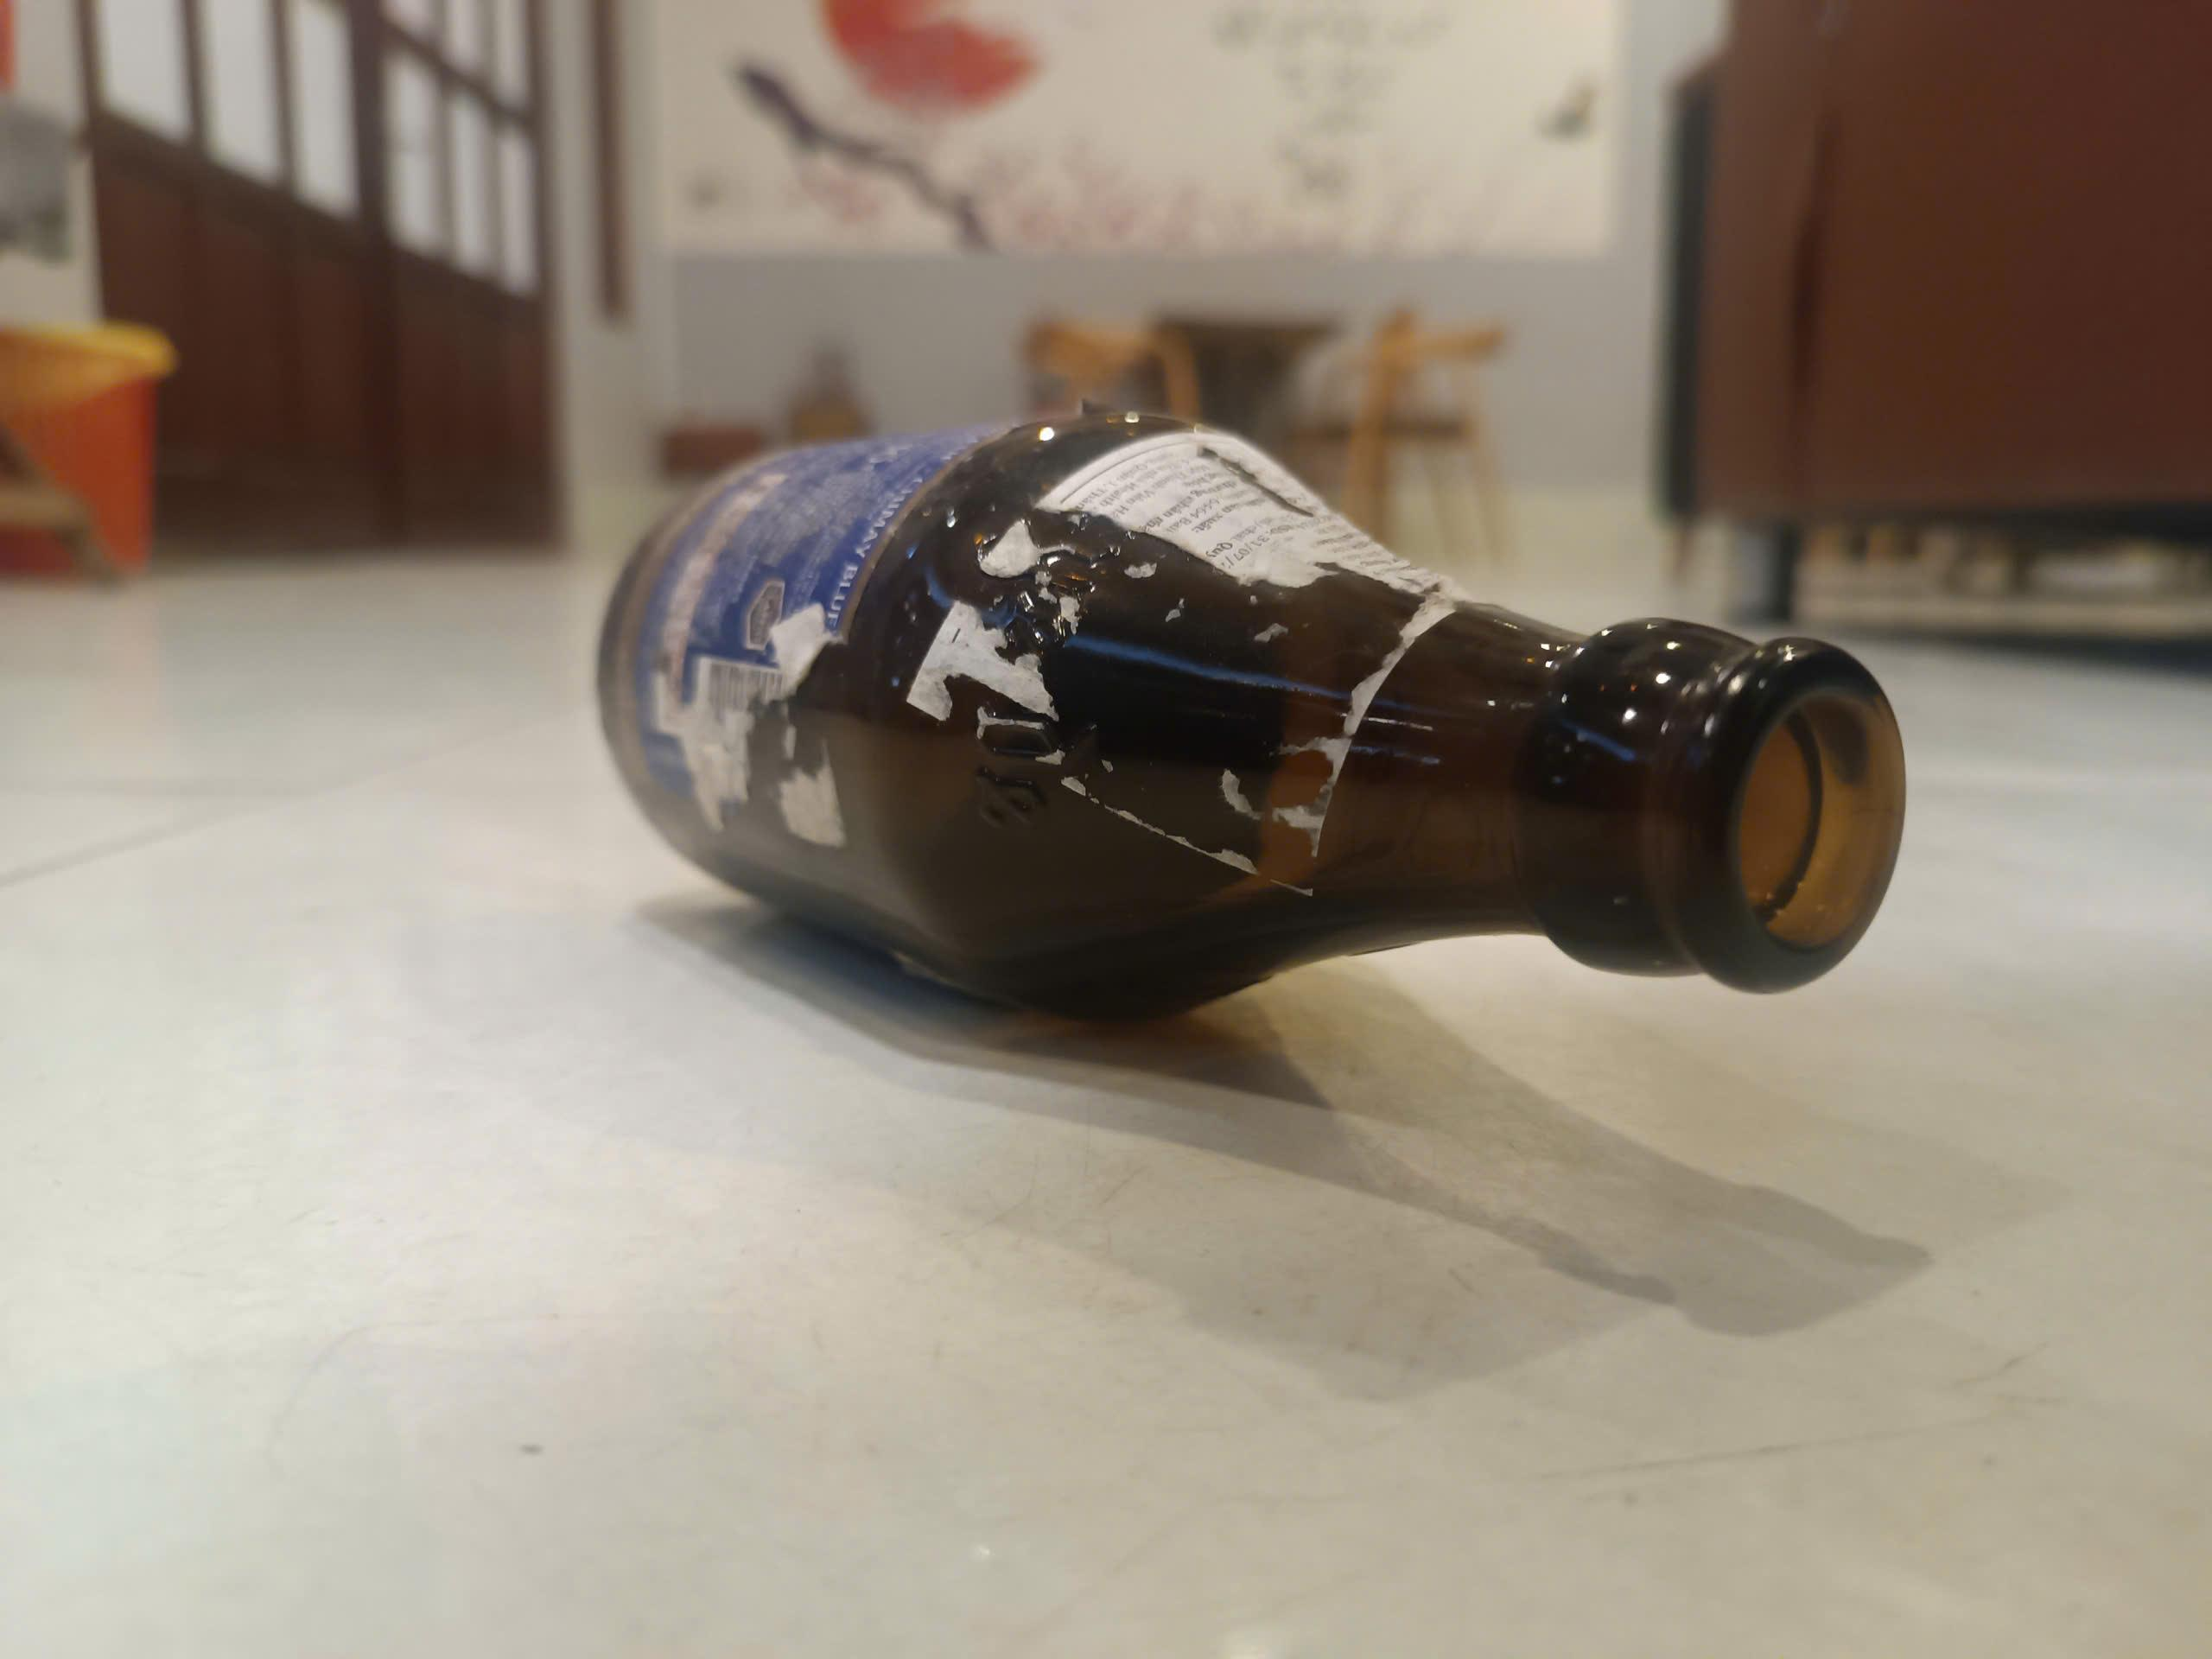Vo co: (590, 410, 1914, 1006)
